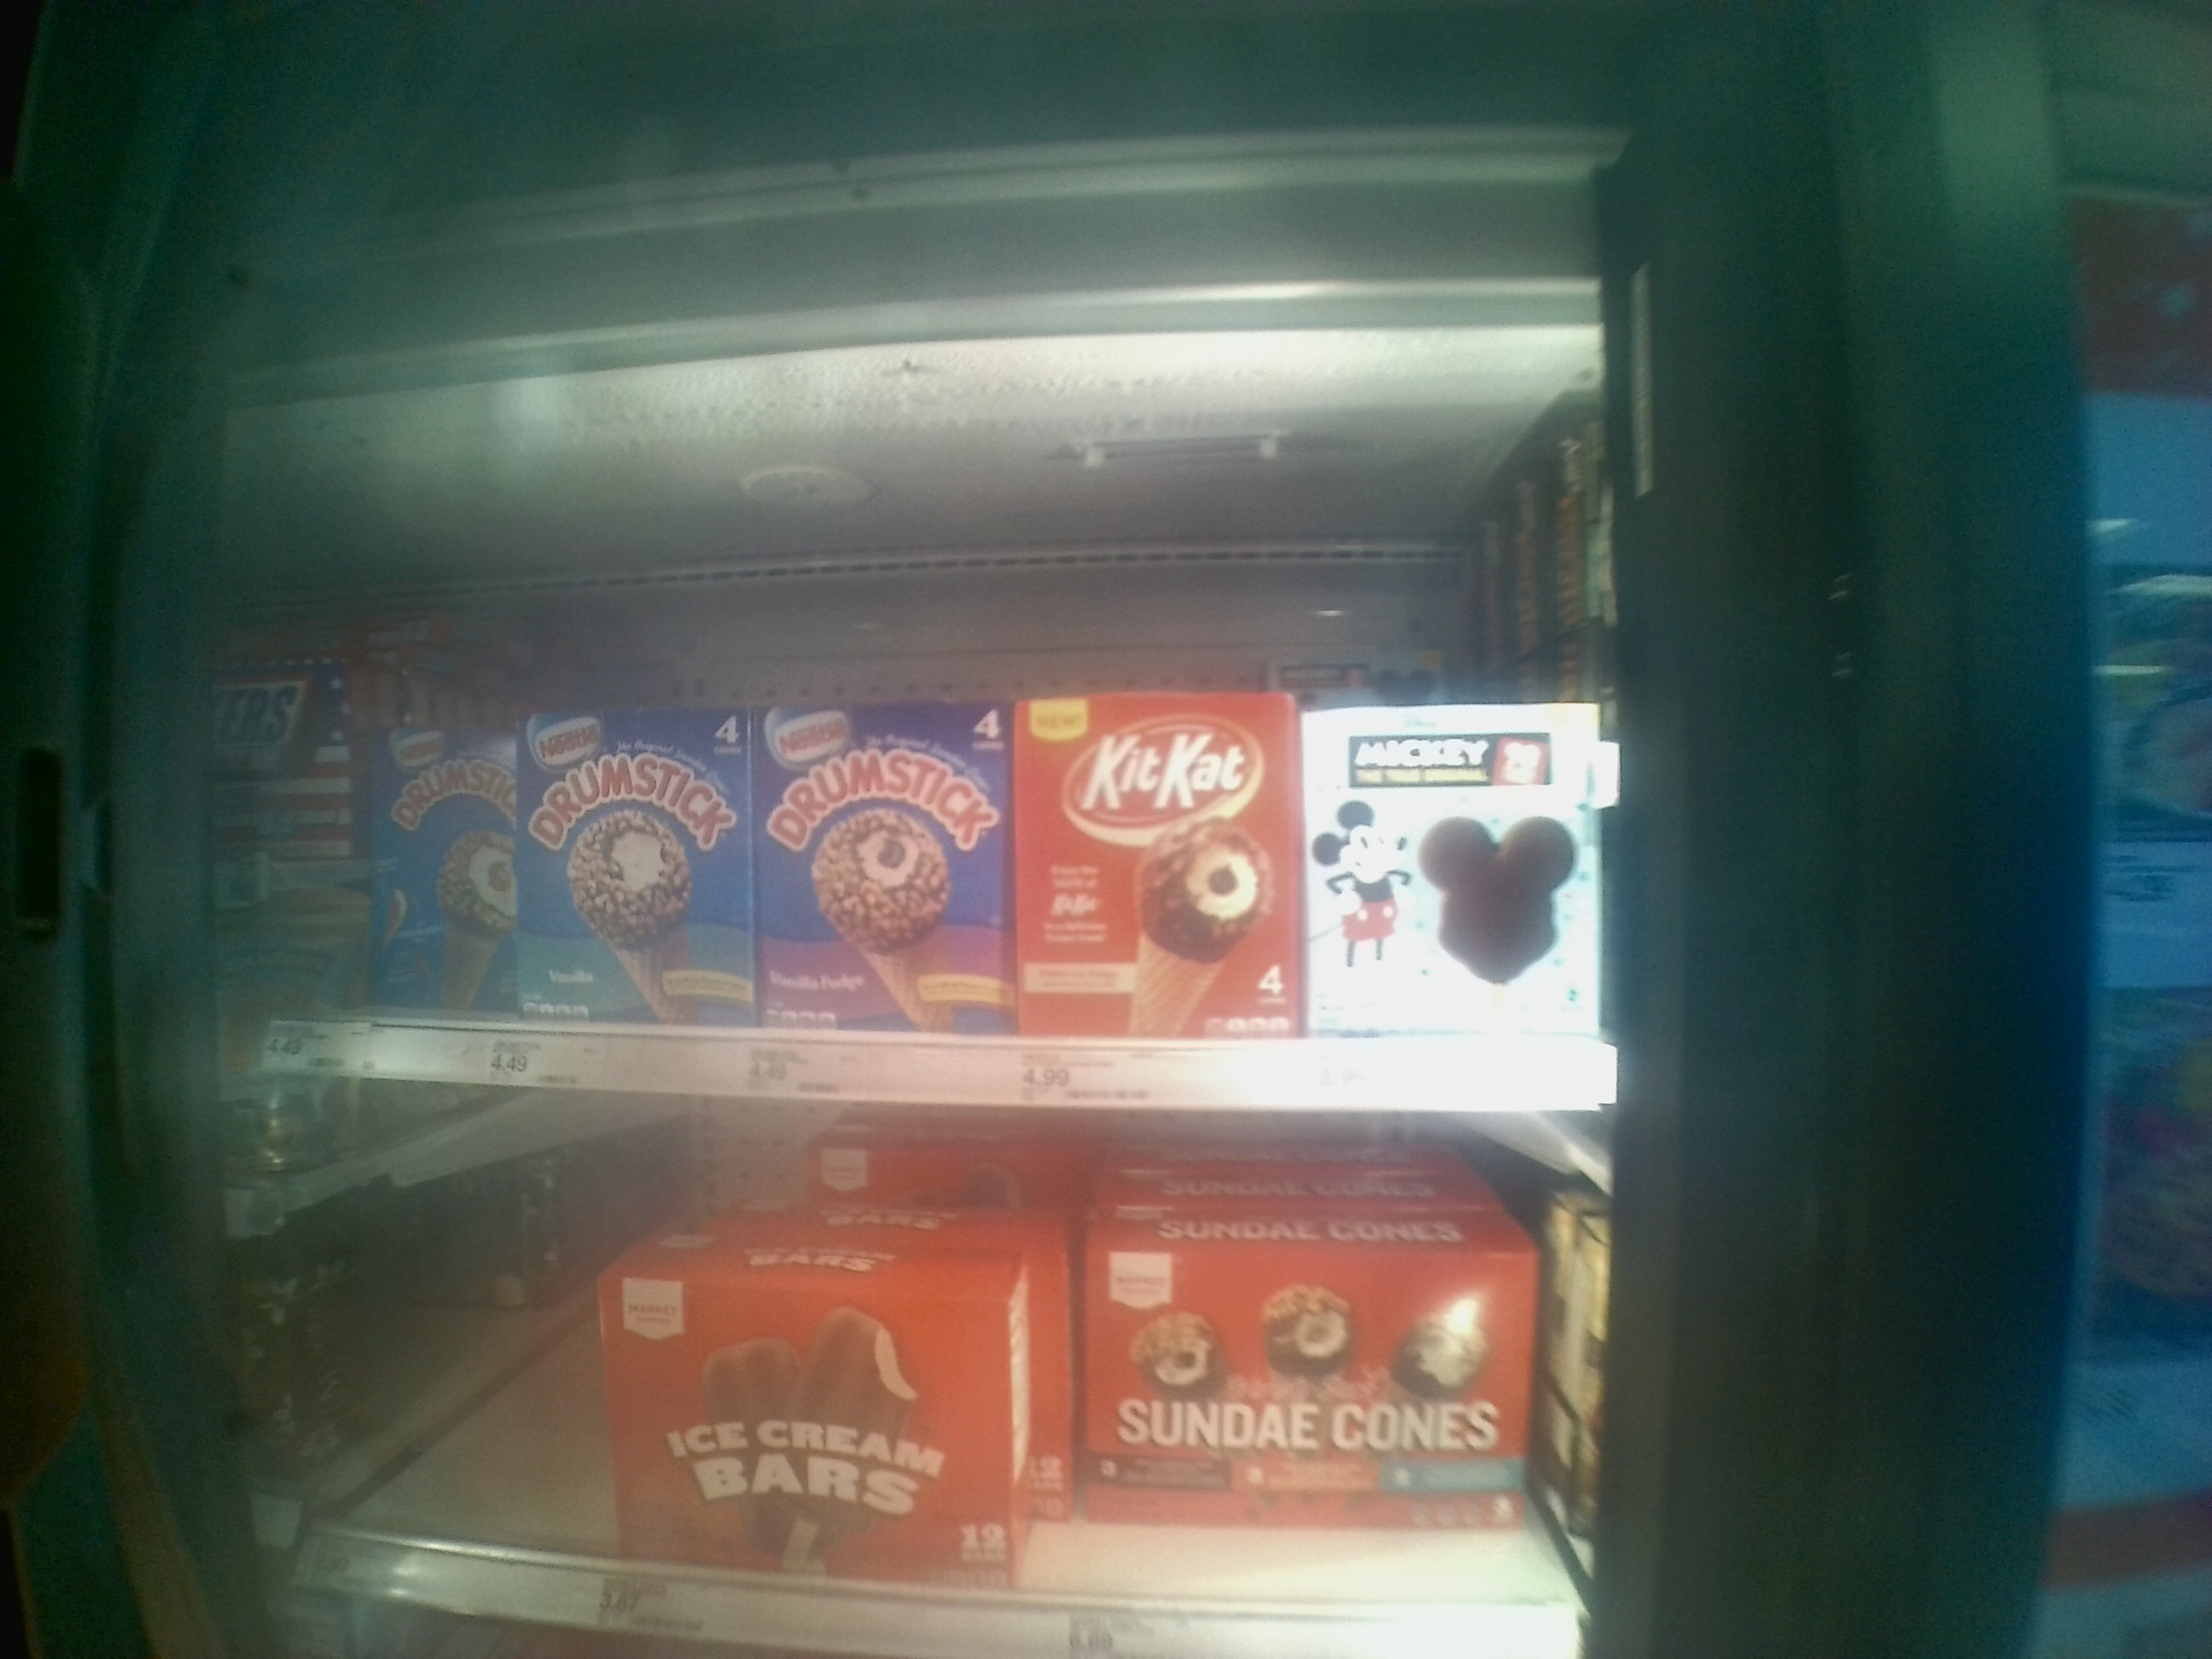shelf: (190, 542, 1618, 1100)
